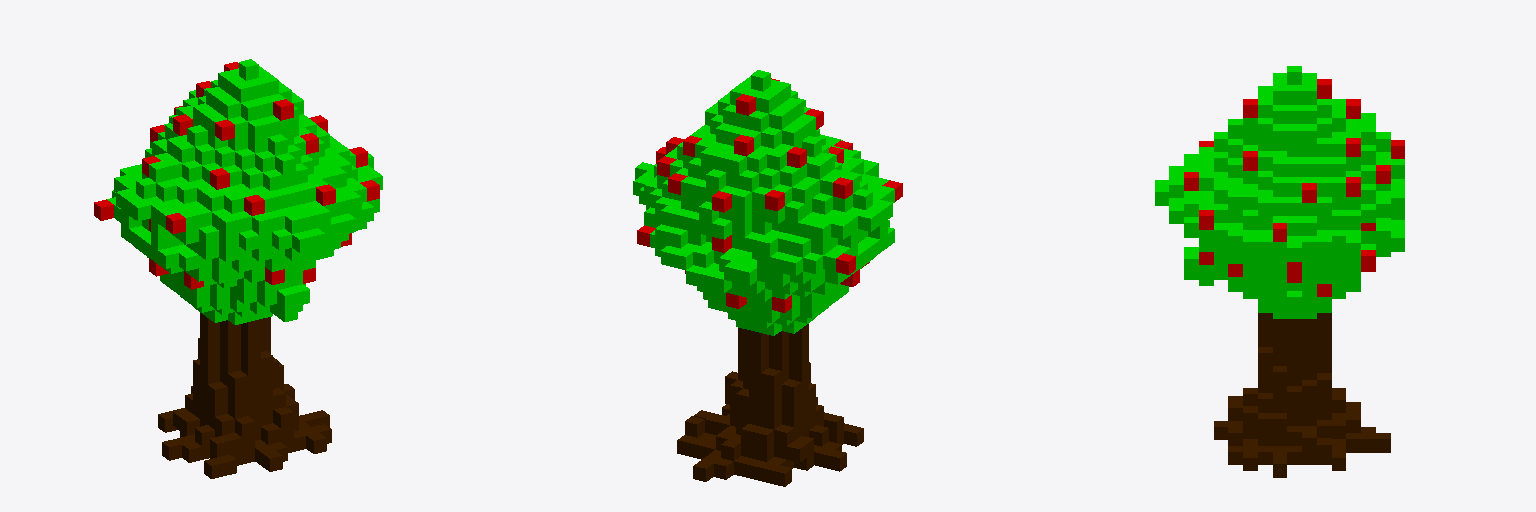
The picture shows the model from 3 angles: view 1: azimuth 30°, elevation 25°; view 2: azimuth 150°, elevation 25°; view 3: azimuth 270°, elevation 25°; orthographic projection.
Parts seen in each view (by area): view 1: object 1; view 2: object 1; view 3: object 1.
Boxes of the visible parts, <box> form: object 1: <box>94,59,382,478</box>; object 1: <box>633,70,902,486</box>; object 1: <box>1155,66,1404,477</box>.
Size of the model in its own units: 1.9 by 2.8 by 1.7.
Materials: 1 (1 with a texture image).